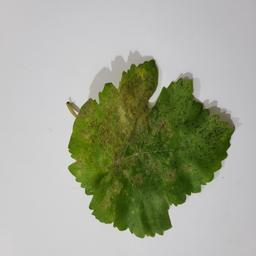Powdery-Mildew: (118, 63, 153, 121), (133, 188, 170, 219), (79, 117, 109, 146), (101, 179, 122, 214), (150, 116, 178, 138), (196, 125, 221, 149), (172, 87, 192, 116), (159, 161, 182, 182)
